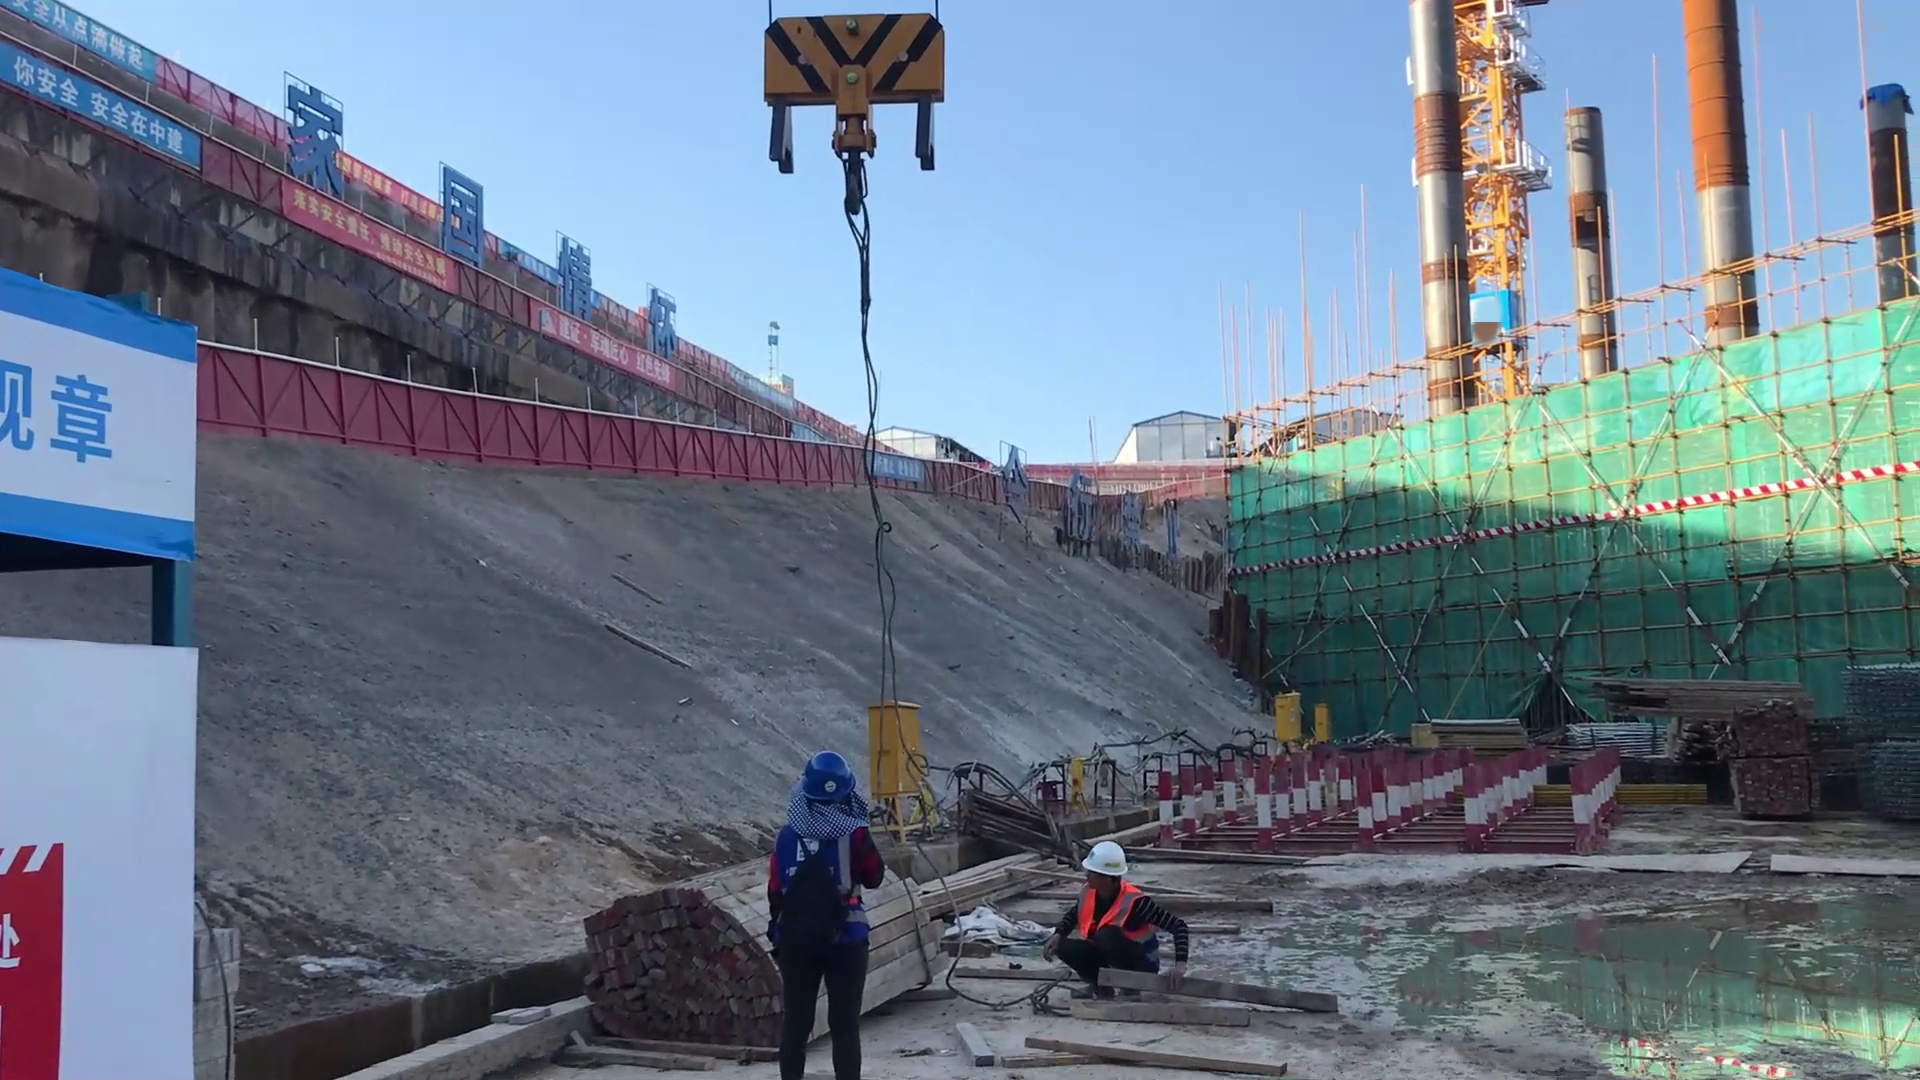board: (570, 878, 758, 1053)
ebox: (867, 693, 930, 809), (1270, 690, 1308, 746), (1312, 696, 1334, 752)
fence: (189, 330, 700, 483), (701, 429, 966, 490)
helmet: (788, 750, 907, 829), (1071, 837, 1140, 888)
hook: (771, 1, 948, 178)
person: (755, 742, 882, 1080), (1041, 838, 1191, 985)
slogan: (241, 142, 469, 342), (1, 327, 180, 550), (1, 25, 211, 179)
vest: (1063, 887, 1143, 934)
wood: (1593, 660, 1817, 726)
